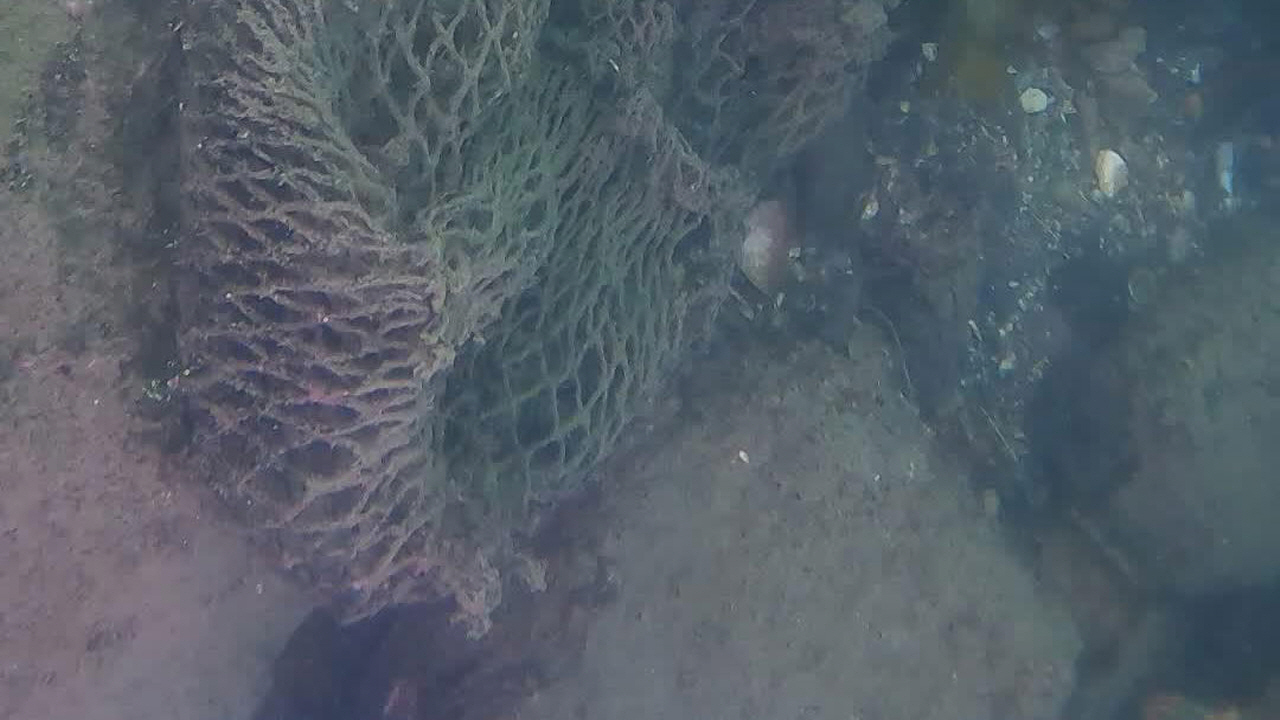fish net: (173, 0, 875, 627)
